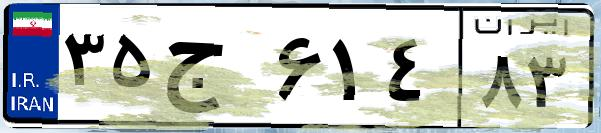1: (330, 28, 385, 110)
3: (57, 26, 110, 100), (525, 38, 570, 115)
4: (385, 28, 445, 110)
5: (110, 28, 158, 98)
6: (270, 28, 330, 110)
8: (475, 38, 525, 113)
ج: (158, 20, 270, 120)
